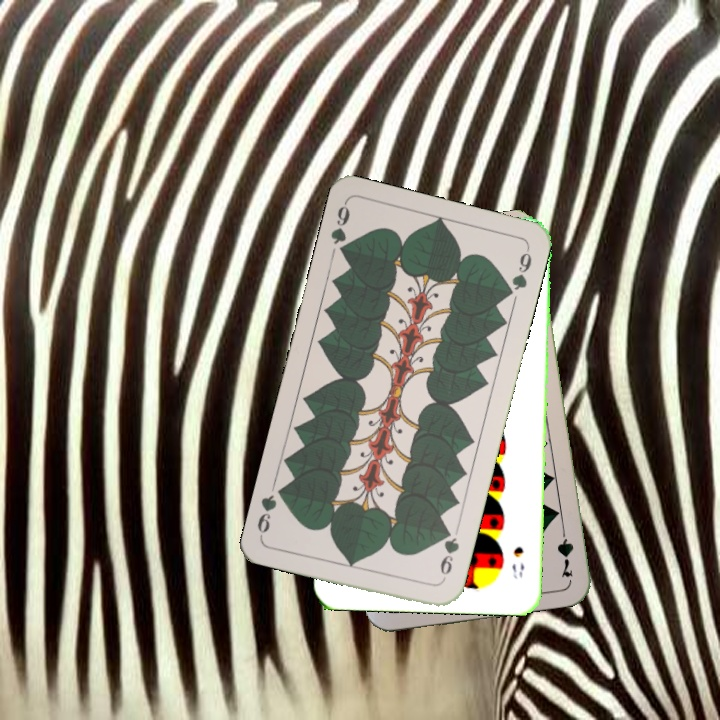G7: (553, 521, 576, 580)
G9: (326, 199, 353, 260), (436, 524, 462, 585)
S8: (508, 542, 527, 581)
